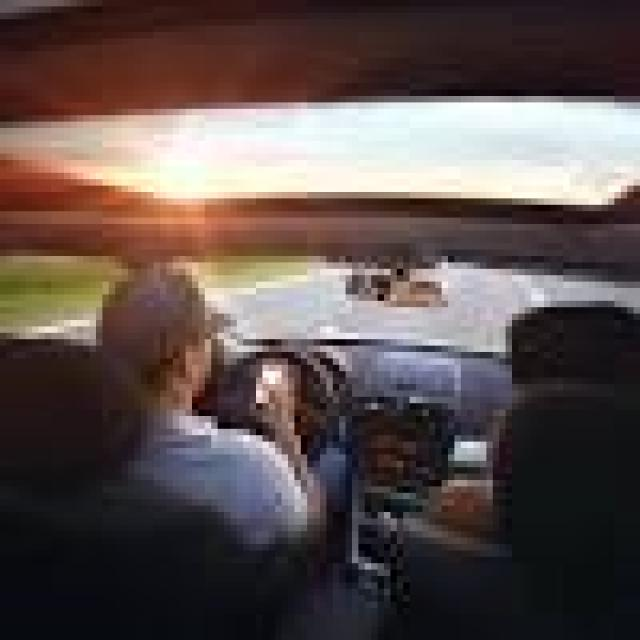Cellphone_texting: (243, 340, 301, 422)
